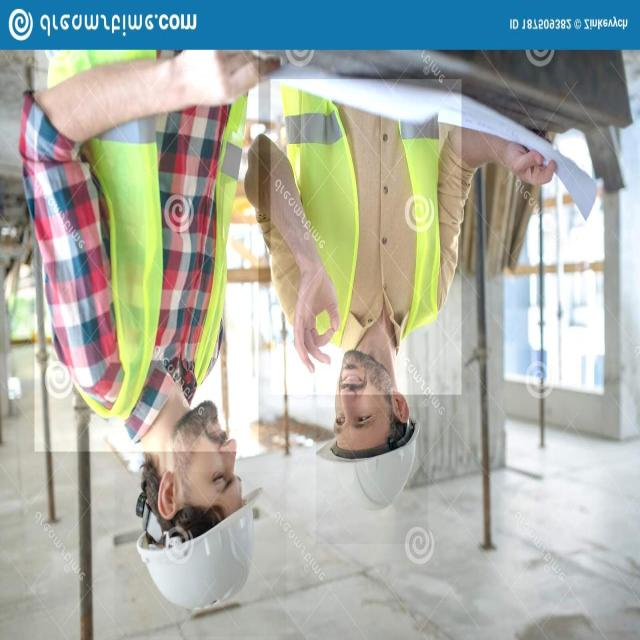Helmet: (115, 472, 287, 636), (316, 407, 428, 544)
Safety Vest: (35, 49, 259, 452), (270, 79, 462, 395)
